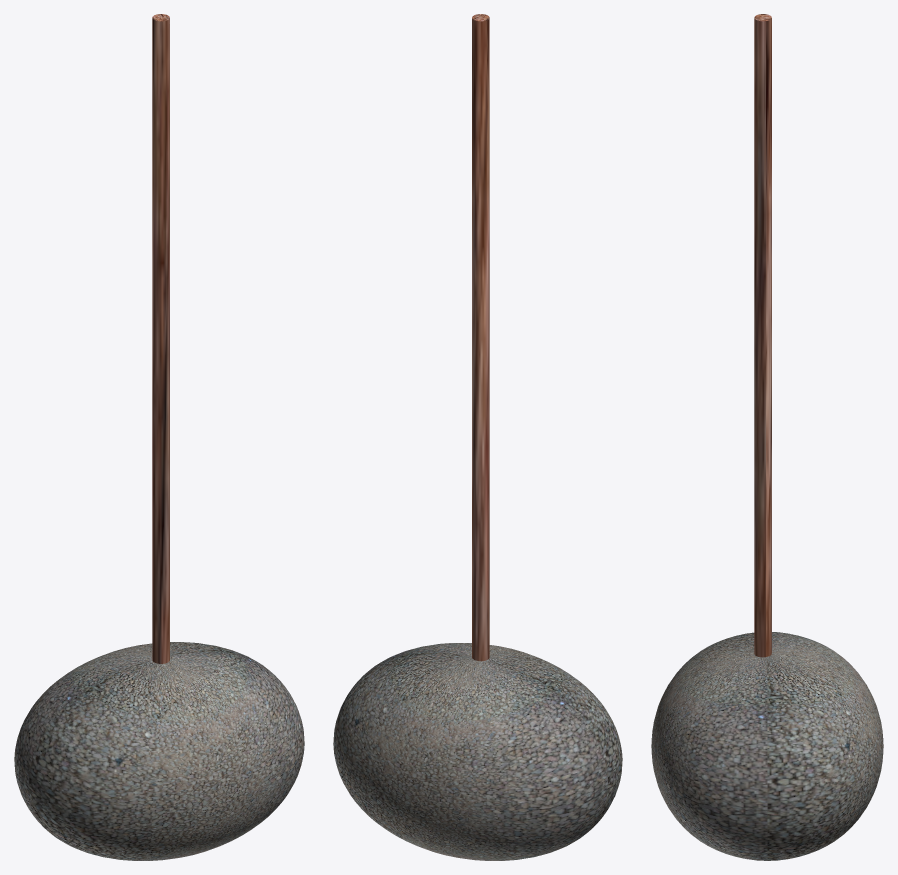
Rendered from relojPendulo.obj.
3 views of the same model, side by side, from view 1: azimuth 30°, elevation 25°; view 2: azimuth 150°, elevation 25°; view 3: azimuth 270°, elevation 25° (orthographic).
Visible parts, largest first — view 1: polySurface100; view 2: polySurface100; view 3: polySurface100.
Boxes of the visible parts, box(x1,y1,x2,y2) form: polySurface100: box(14, 14, 304, 860); polySurface100: box(333, 14, 622, 860); polySurface100: box(651, 14, 883, 860).
Size of the model in its own units: 5.18 by 15.7 by 4.02.
2 materials, 2 textured.
